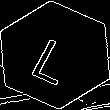L_NE: (27, 25, 83, 85)
